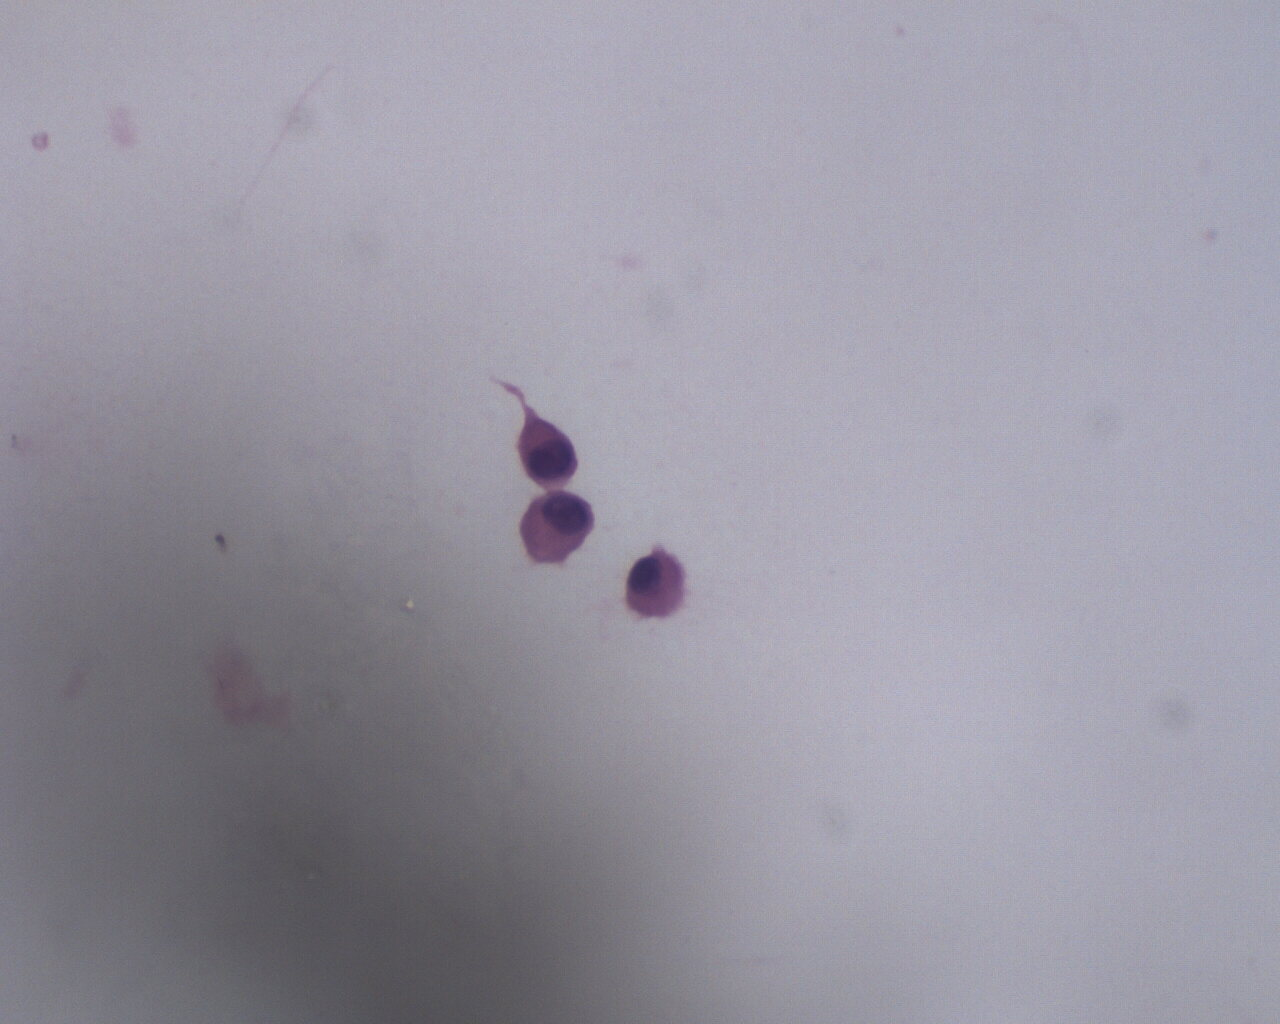meso: (517, 490, 598, 563), (508, 414, 585, 488), (623, 546, 693, 627)
